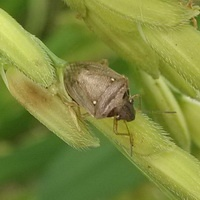insect: (64, 61, 135, 155)
